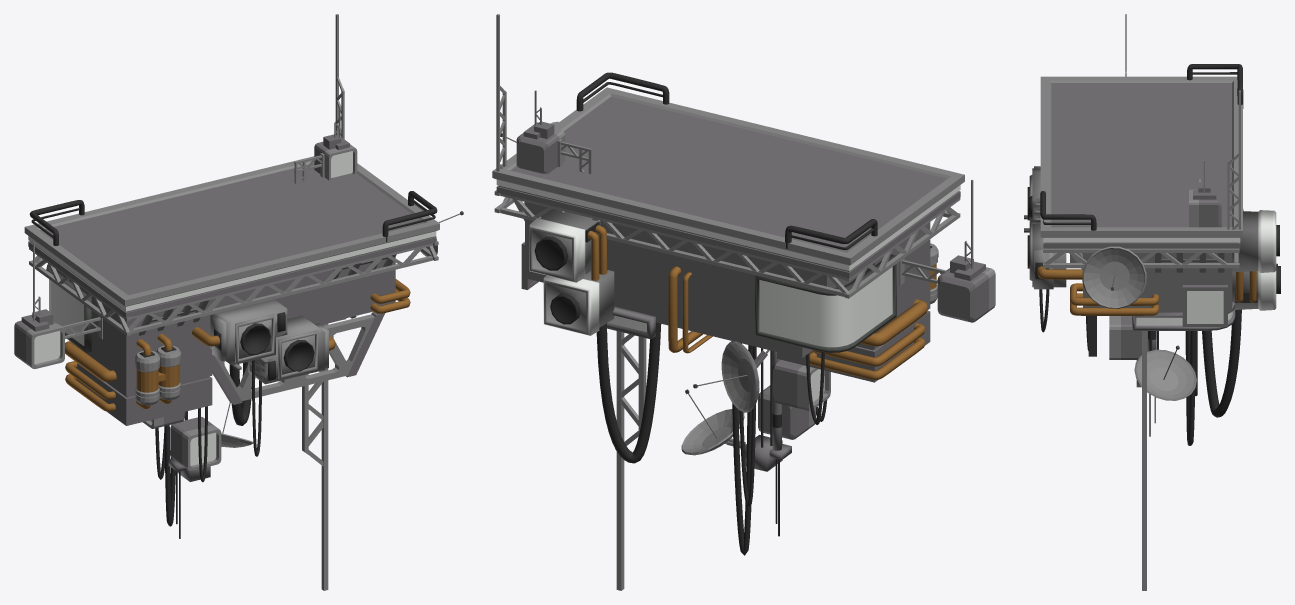
Rendered from quaternius-cyberpunk-platform-4-x-2.glb.
3 views of the same model, side by side, from view 1: azimuth 30°, elevation 25°; view 2: azimuth 150°, elevation 25°; view 3: azimuth 270°, elevation 25° (orthographic). The views are drawn at different scales.
Parts seen in each view (by area): view 1: Platform_4x2; view 2: Platform_4x2; view 3: Platform_4x2.
Boxes of the visible parts, <box> form: Platform_4x2: <box>14,14,463,590</box>; Platform_4x2: <box>492,14,995,590</box>; Platform_4x2: <box>1024,14,1280,590</box>.
Size of the model in its own units: 5.32 by 6.16 by 2.71.
Materials: 1 (1 with a texture image).
